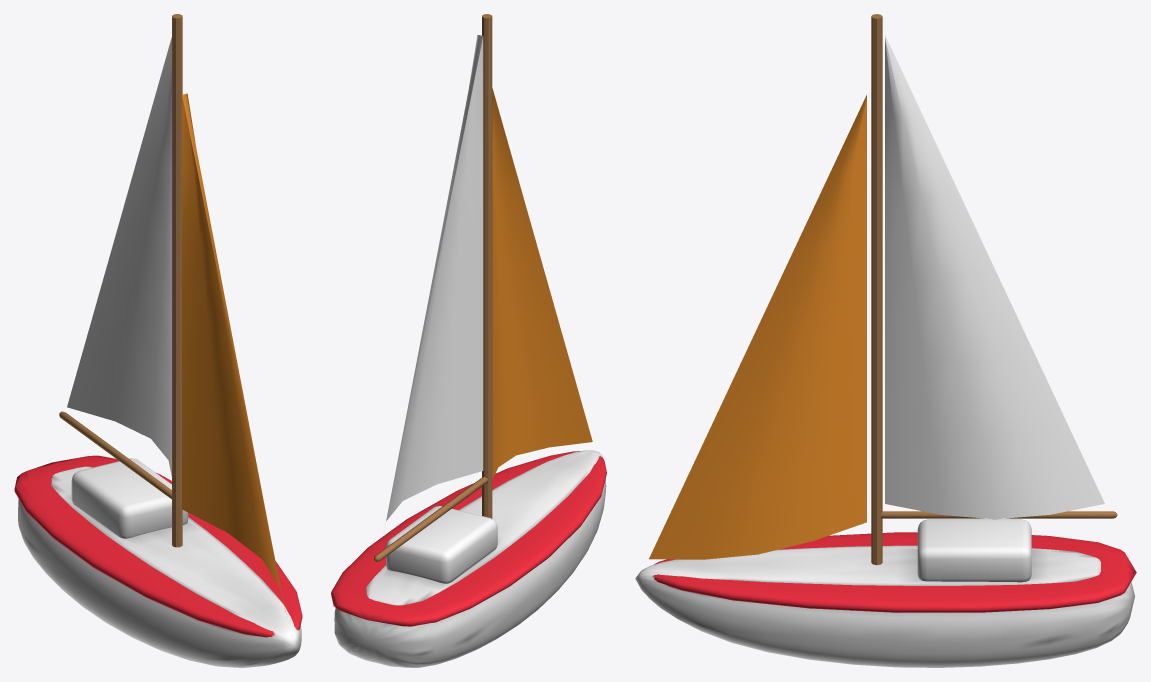
The model's file is boat.glb.
3 renders of one model, left to right at view 1: azimuth 30°, elevation 25°; view 2: azimuth 150°, elevation 25°; view 3: azimuth 270°, elevation 25°, orthographic. The views are drawn at different scales.
Parts seen in each view (by area): view 1: Boat; view 2: Boat; view 3: Boat.
Boxes of the visible parts, left/top/right/bottom form: Boat: left=14, top=14, right=302, bottom=667; Boat: left=331, top=14, right=606, bottom=667; Boat: left=635, top=14, right=1136, bottom=667.
Bounding box in the file's own units: 2.19 × 8.56 × 6.15.
